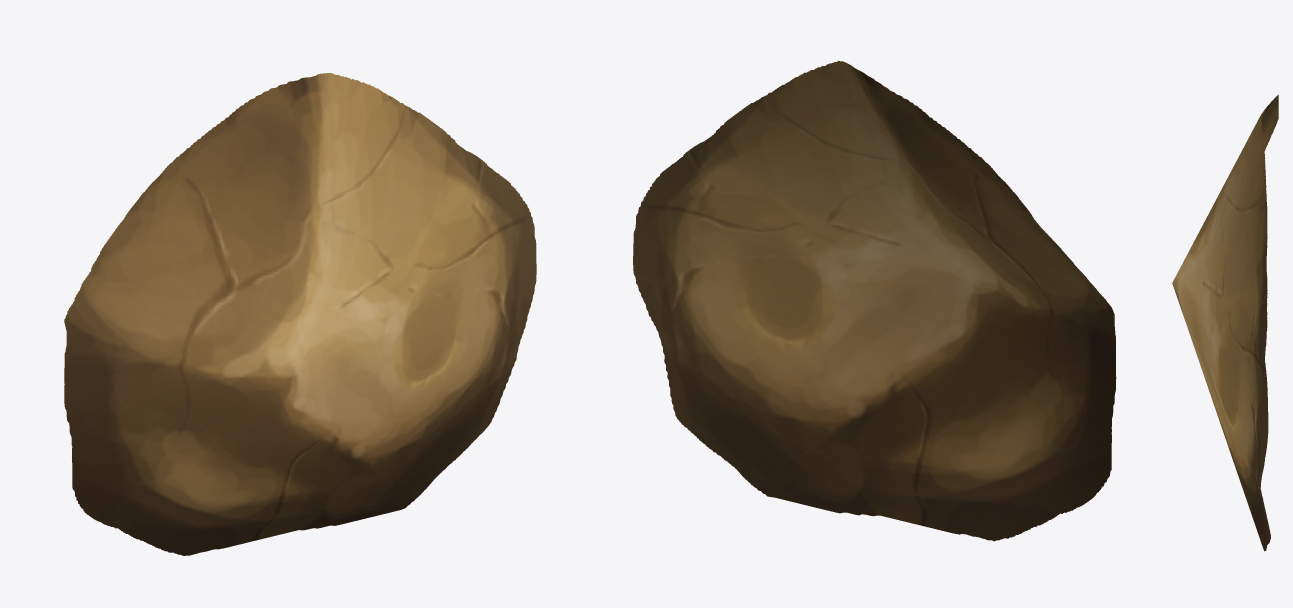
Rendered from Rolling Boulder.FBX.
The picture shows the model from 3 angles, left to right: view 1: azimuth 30°, elevation 25°; view 2: azimuth 150°, elevation 25°; view 3: azimuth 270°, elevation 25°; orthographic projection. The views are drawn at different scales.
Visible parts, largest first — view 1: Rolling Boulder; view 2: Rolling Boulder; view 3: Rolling Boulder.
Part boxes in pixels (left/top/right/bottom): Rolling Boulder: left=64, top=73, right=536, bottom=555; Rolling Boulder: left=633, top=60, right=1116, bottom=541; Rolling Boulder: left=1172, top=94, right=1278, bottom=551.
Bounding box in the file's own units: 228 × 42.35 × 212.
